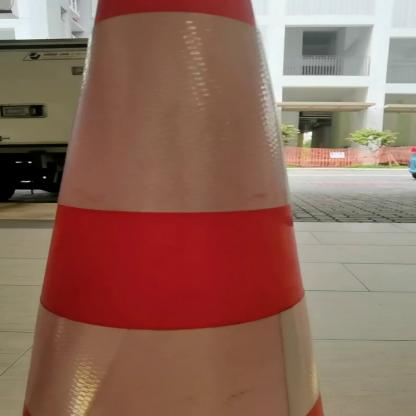cone: (0, 2, 352, 415)
